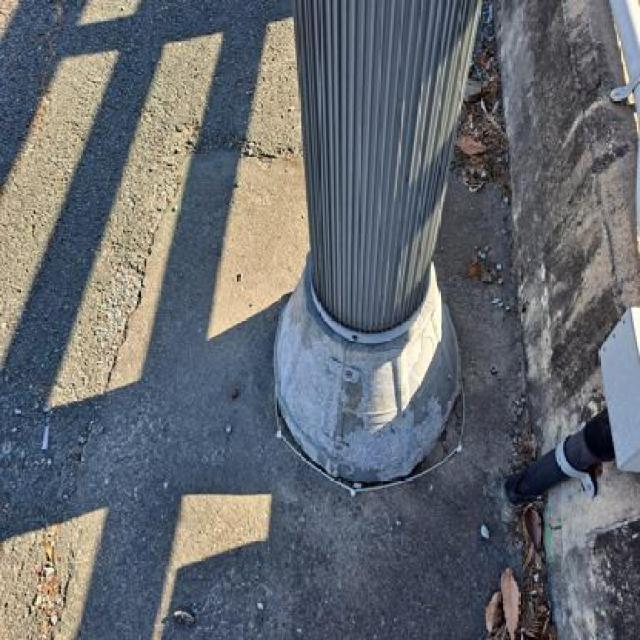pole: (262, 0, 492, 488)
